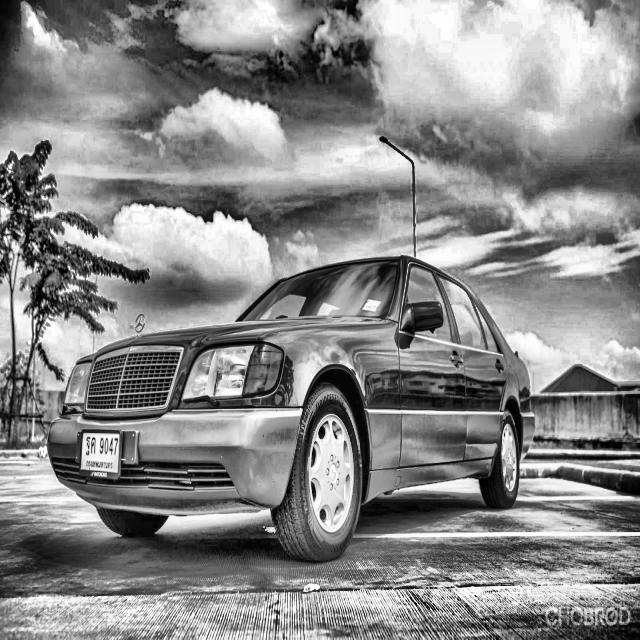license-plate: (71, 417, 125, 484)
